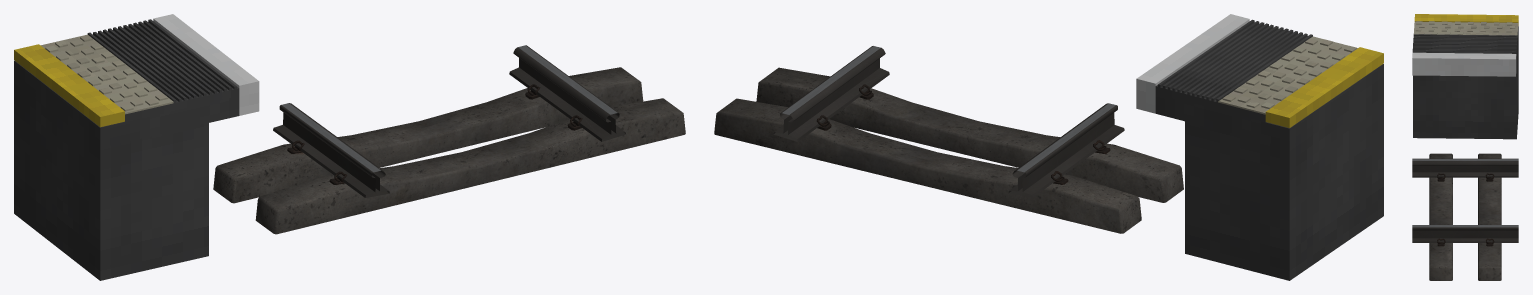
The model's file is track.obj.
The picture shows the model from 3 angles, left to right: view 1: azimuth 30°, elevation 25°; view 2: azimuth 150°, elevation 25°; view 3: azimuth 270°, elevation 25°; orthographic projection. The views are drawn at different scales.
Parts seen in each view (by area): view 1: cube.002, Full_LOD0_LOD0.007, Full_LOD0_LOD0.002, Full_LOD0_LOD0, cube.001, cube.004, cube, cube.005, cube.051, cube.047, cube.048, cube.049 (+10 smaller); view 2: cube.002, Full_LOD0_LOD0.002, Full_LOD0_LOD0.007, Full_LOD0_LOD0, cube.001, cube.004, cube, cube.005, cube.051, cube.043, cube.048, cube.040 (+10 smaller); view 3: cube.002, Full_LOD0_LOD0, cube, Full_LOD0_LOD0.002, Full_LOD0_LOD0.007, cube.005, cube.004, cube.045, cube.050, cube.041, cube.047, cube.044 (+9 smaller).
Boxes of the visible parts, x1,y1,x2,y2 form: cube.002: (14, 81, 208, 280); Full_LOD0_LOD0.007: (255, 98, 685, 234); Full_LOD0_LOD0.002: (213, 67, 643, 203); Full_LOD0_LOD0: (273, 45, 625, 197); cube.001: (14, 60, 239, 147); cube.004: (14, 44, 124, 127); cube: (153, 14, 259, 115); cube.005: (41, 34, 173, 114); cube.051: (123, 28, 209, 121); cube.047: (103, 29, 191, 99); cube.048: (108, 28, 196, 98); cube.049: (113, 27, 201, 97); cube.002: (1185, 84, 1383, 280); Full_LOD0_LOD0.002: (714, 98, 1141, 233); Full_LOD0_LOD0.007: (756, 67, 1183, 202); Full_LOD0_LOD0: (773, 46, 1124, 197); cube.001: (1155, 64, 1383, 148); cube.004: (1265, 47, 1383, 127); cube: (1136, 14, 1249, 113); cube.005: (1218, 36, 1357, 114); cube.051: (1184, 29, 1277, 122); cube.043: (1182, 26, 1278, 93); cube.048: (1196, 29, 1293, 97); cube.040: (1162, 21, 1259, 88); cube.002: (1413, 38, 1518, 139); Full_LOD0_LOD0: (1412, 158, 1518, 242); cube: (1412, 52, 1516, 76); Full_LOD0_LOD0.002: (1478, 153, 1501, 280); Full_LOD0_LOD0.007: (1429, 153, 1452, 280); cube.005: (1413, 21, 1518, 36); cube.004: (1414, 14, 1518, 25); cube.045: (1413, 34, 1517, 37); cube.050: (1413, 43, 1516, 45); cube.041: (1412, 48, 1516, 51); cube.047: (1413, 39, 1517, 41); cube.044: (1413, 36, 1517, 38).
Size of the model in its own units: 3.83 by 1.05 by 1.03.
